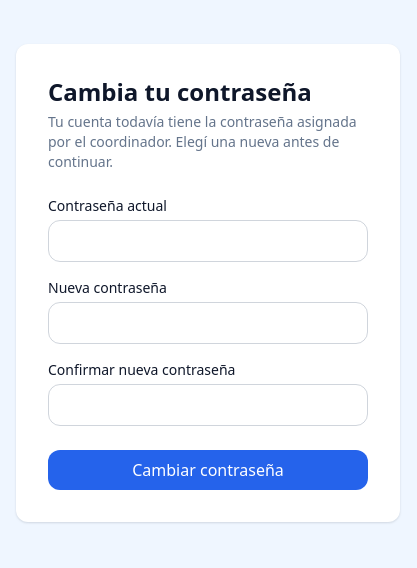
it: ChangePasswordPage › rechaza si la nueva es igual a la actual
In the password field labelled "Contraseña actual": (208, 241) [48,220,368,262], type "actual123"
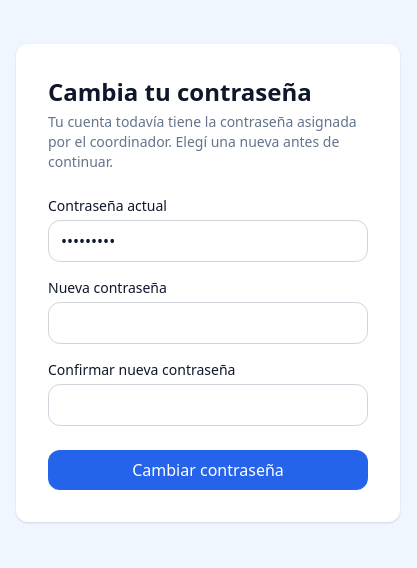
In the password field labelled "Nueva contraseña": (208, 323) [48,302,368,344], type "actual123"
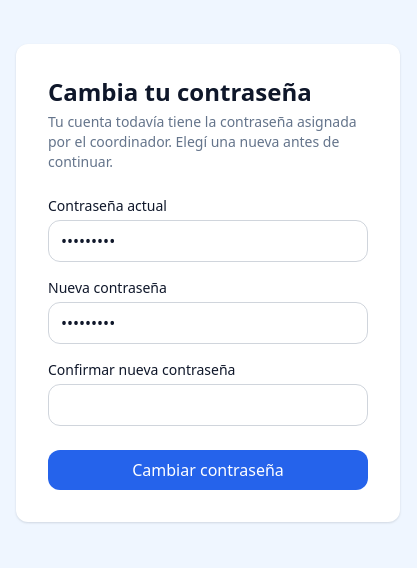
In the password field labelled "Confirmar nueva contraseña": (208, 405) [48,384,368,426], type "actual123"
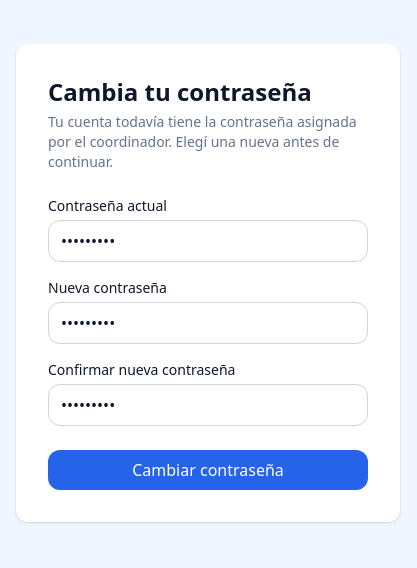
Click the button "Cambiar contraseña": (208, 470) [48,450,368,490]
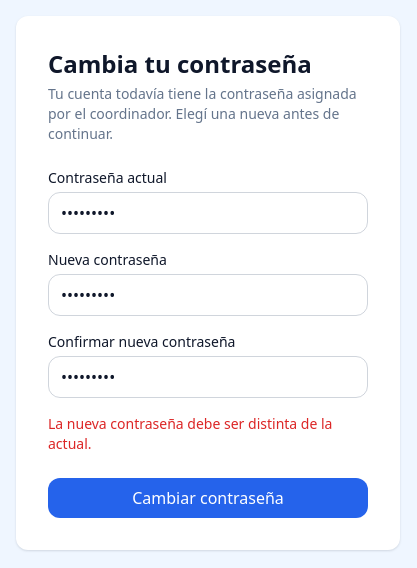
Now the message reads "La nueva contraseña debe ser distinta de la actual.", box [48,414,332,453]
